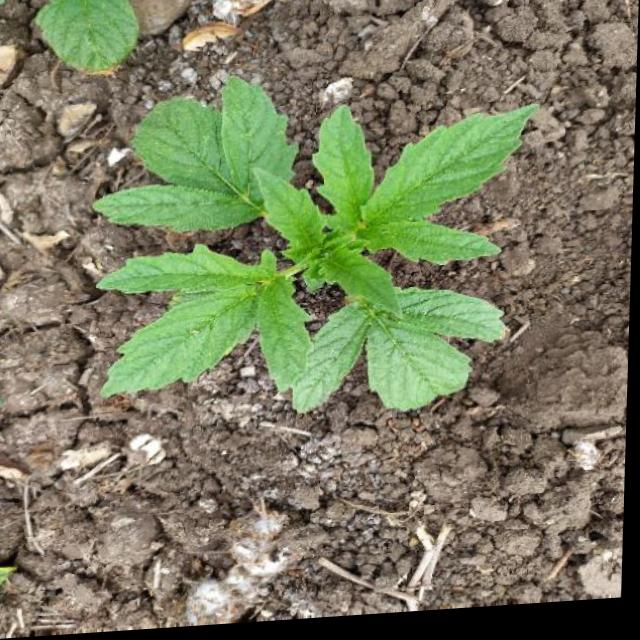crop: (98, 72, 533, 469)
